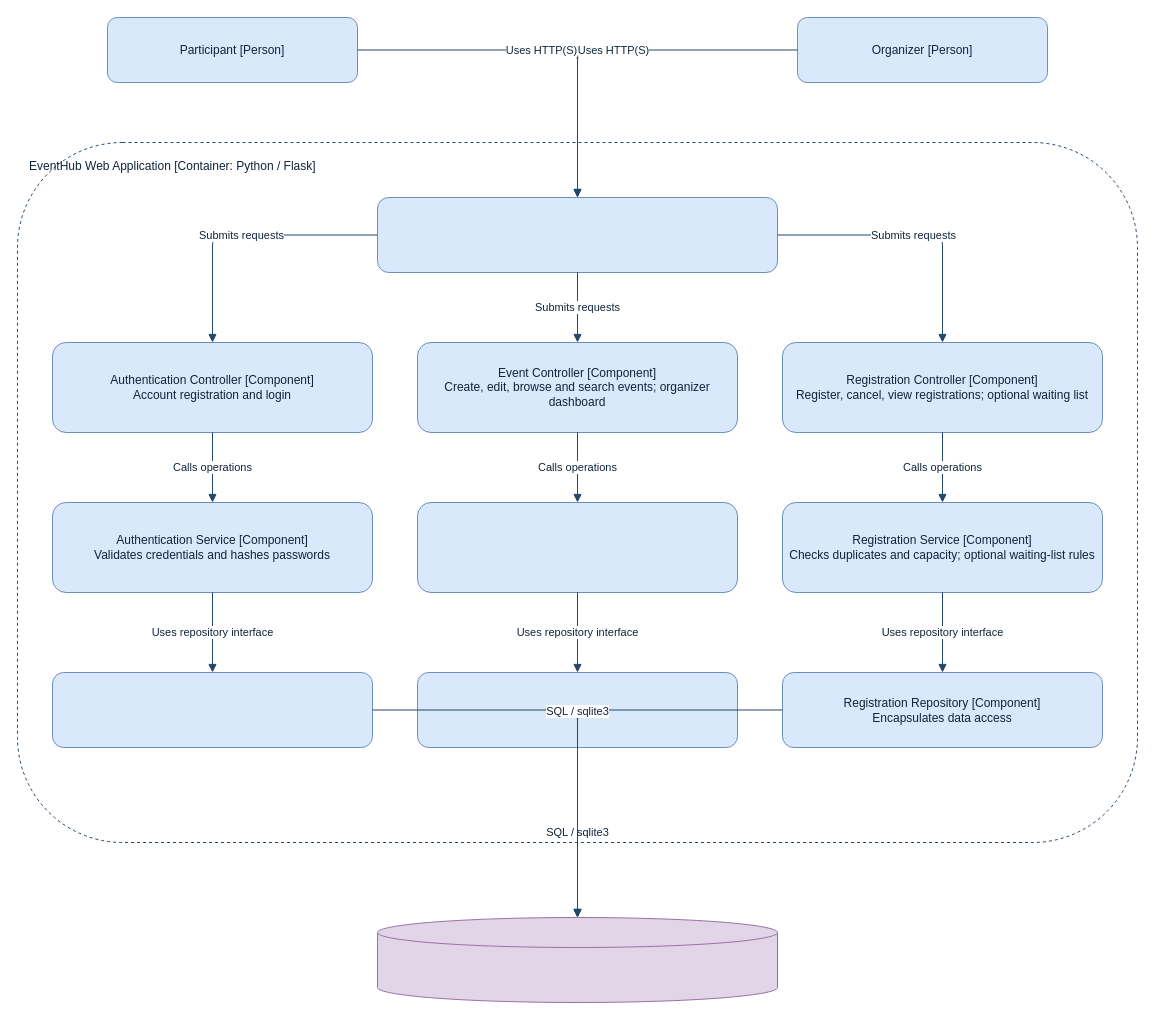
The diagram is 1155 pixels wide and 1020 high, and some of its shapes have lost their labels. The centre of each missing label's shape, as x and y in pixels:
Event Repository [Component] Encapsulates data access: [577,710]
Event Service [Component] Enforces event and ownership rules: [577,547]
SQLite Database [Container] Users, events, registrations; optional waiting list: [577,959]
User Repository [Component] Encapsulates data access: [212,710]
Web Interface [Component] HTML / CSS / JavaScript / Jinja: [577,234]
